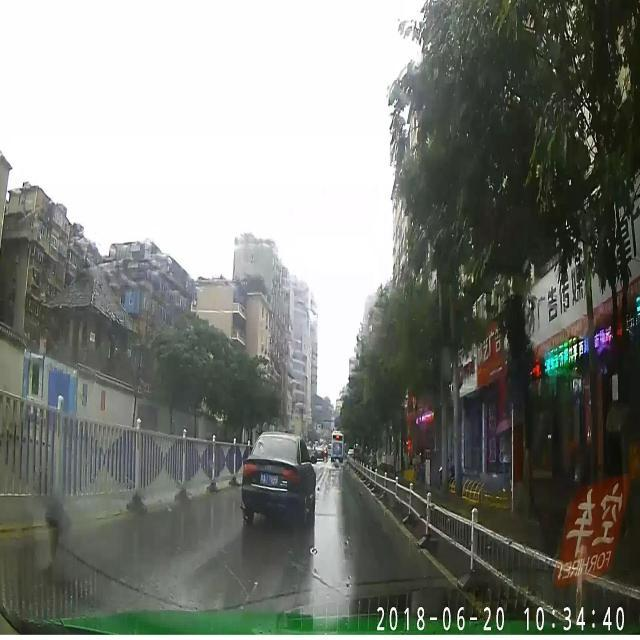car: (240, 431, 314, 523)
